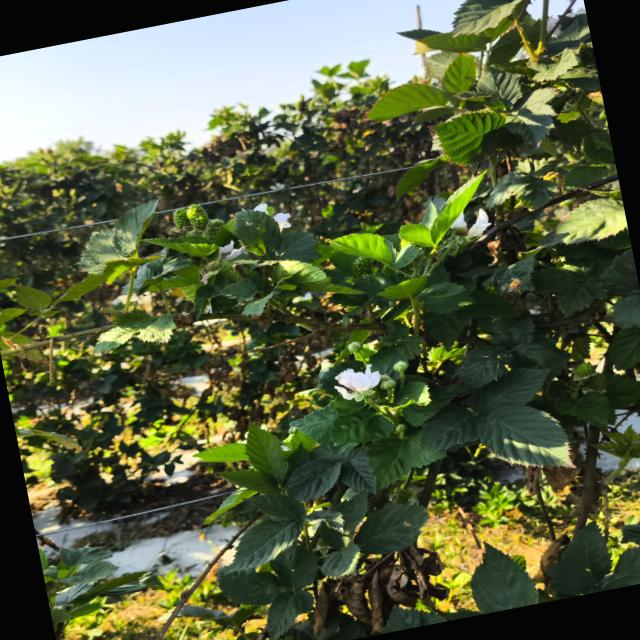boton: (393, 360, 409, 374), (347, 341, 364, 353), (395, 424, 408, 439), (381, 379, 396, 390)
flor: (335, 364, 381, 400)
